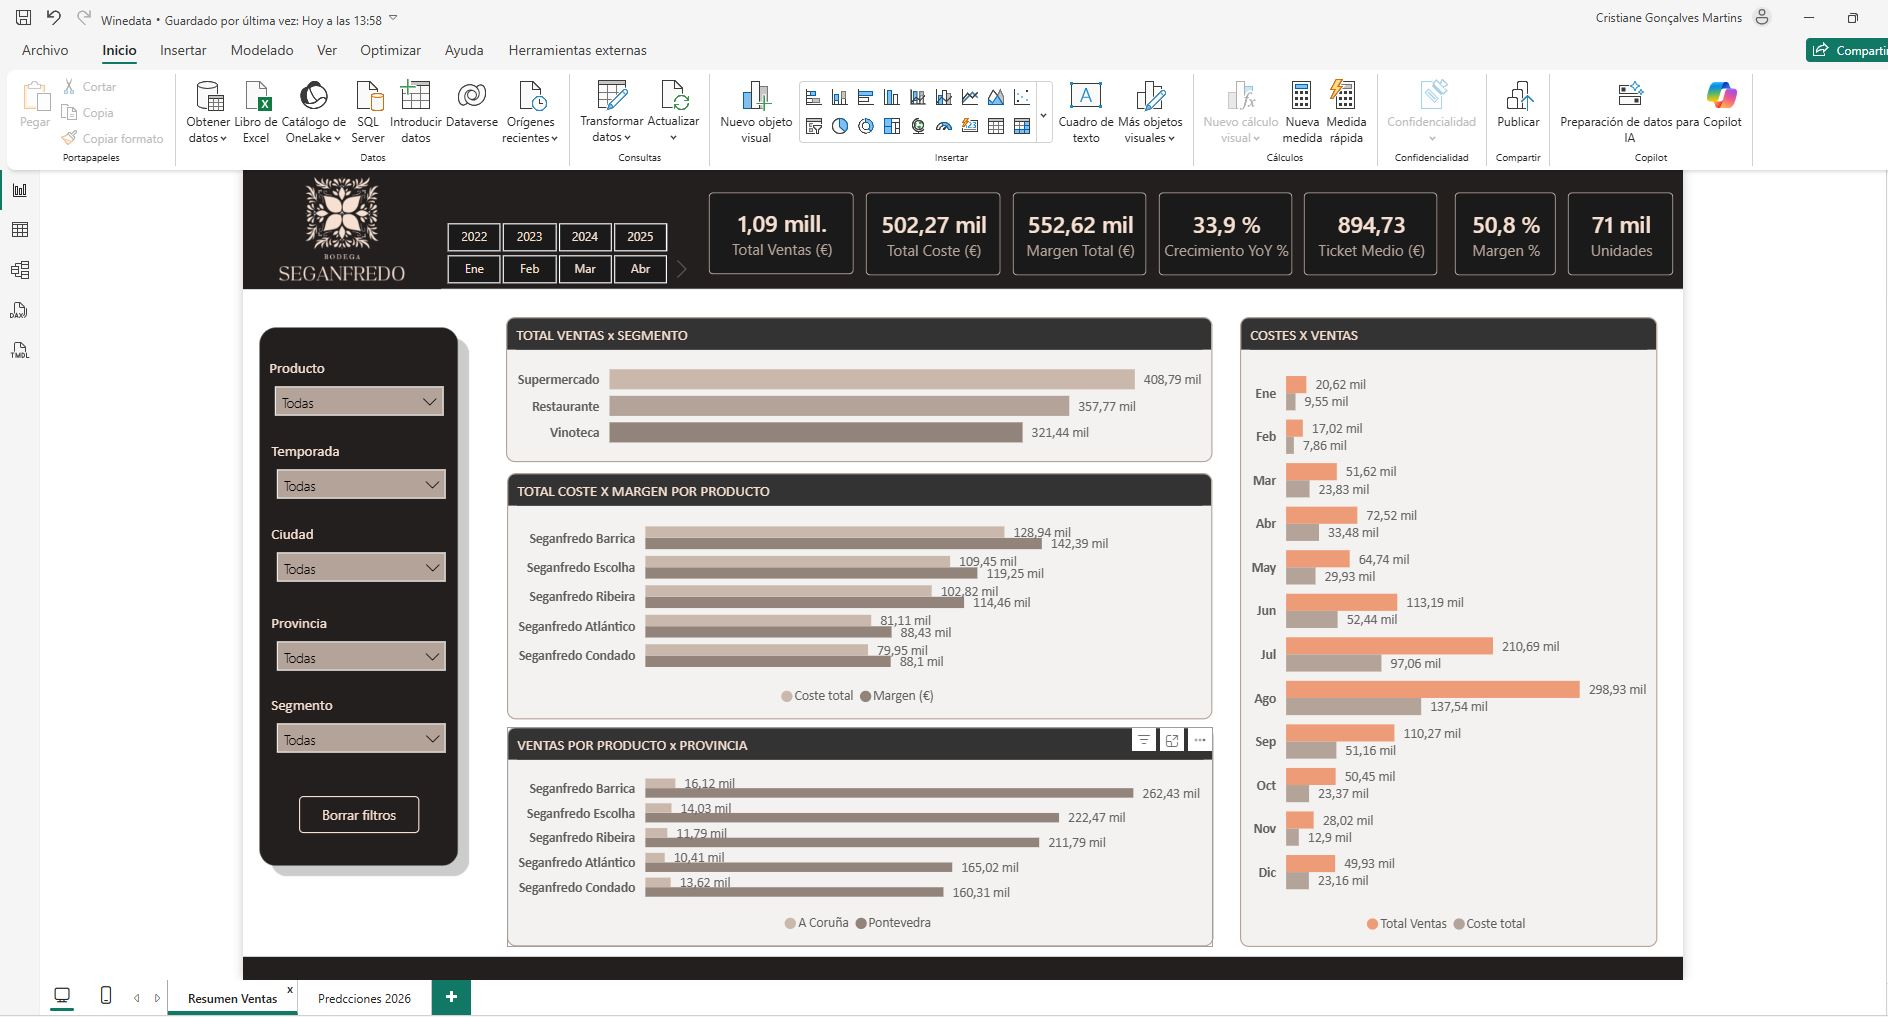

The dashboard page shown, as its layout file describes it:
{"tool":"powerbi","page":{"name":"Resumen Ventas","canvas":[1280,720],"ordinal":0},"visuals":[{"type":"barChart","title":"TOTAL VENTAS x SEGMENTO","fields":{"Category":["dim_cliente.segmento"],"Y":["Medidas.Total Ventas_bruto"]},"box":[233.6,130.8,627.9,128.9],"z":0},{"type":"slicer","title":"Año","fields":{"Values":["dim_calendario.año"]},"box":[161,45,235,28.5],"z":1000,"group":"g1"},{"type":"clusteredBarChart","title":"COSTES X VENTAS","fields":{"Category":["dim_calendario.mes_corto"],"Y":["Medidas.Total Ventas_bruto","Medidas.Coste total"]},"box":[886.7,130.8,370.9,559.6],"z":1000},{"type":"cardVisual","fields":{"Data":["Medidas.Margen %"]},"box":[1072,17.8,100.4,78.2],"z":2000},{"type":"cardVisual","fields":{"Data":["Medidas.Total Margen"]},"box":[678.8,17.7,129.7,78.6],"z":3000},{"type":"cardVisual","fields":{"Data":["Medidas.Unidades Vendidas"]},"box":[1172.4,17.8,104,78.2],"z":4000},{"type":"cardVisual","fields":{"Data":["Medidas.Ticket Medio (€)"]},"box":[938.1,17.7,129,78.6],"z":5000},{"type":"cardVisual","fields":{"Data":["Medidas.Crecimiento YoY %"]},"box":[808.5,17.7,129.7,78.6],"z":6000},{"type":"cardVisual","title":"Total Ventas (","fields":{"Data":["Medidas.Total Ventas"]},"box":[408.7,17.7,139.5,77.6],"z":7000},{"type":"slicer","title":"Producto","fields":{"Values":["dim_producto.nombre_producto"]},"box":[21.3,165.3,163.6,59.6],"z":8000},{"type":"slicer","title":"Temporada","fields":{"Values":["dim_calendario.temporada"]},"box":[23.1,239.1,164,60],"z":9000},{"type":"slicer","title":"Ciudad","fields":{"Values":["dim_cliente.ciudad"]},"box":[23.1,312.9,164.4,60.4],"z":10000},{"type":"slicer","title":"Provincia","fields":{"Values":["dim_cliente.provincia"]},"box":[23.1,392,164,60],"z":11000},{"type":"slicer","title":"Segmento","fields":{"Values":["dim_cliente.segmento"]},"box":[23.1,464.9,164.4,60.4],"z":12000},{"type":"clusteredBarChart","title":"TOTAL COSTE X MARGEN POR PRODUCTO","fields":{"Category":["dim_producto.nombre_producto"],"Y":["Medidas.Coste total","Medidas.Total Margen"]},"box":[234.5,269.1,627,218.6],"z":13000},{"type":"clusteredBarChart","title":"VENTAS POR PRODUCTO x PROVINCIA","fields":{"Category":["dim_producto.nombre_producto"],"Series":["dim_cliente.provincia"],"Y":["Medidas.Total Ventas_bruto"]},"box":[234.5,495.2,627.9,195.3],"z":14000},{"type":"cardVisual","title":"Total Ventas (","fields":{"Data":["Medidas.Coste total"]},"box":[548.2,17.7,130.7,78.6],"z":15000},{"type":"group","id":"g1","title":"Grupo 1","box":[161,45,235,57],"z":16000},{"type":"slicer","title":"Año","fields":{"Values":["dim_calendario.mes_corto"]},"box":[161,73.5,235,28.5],"z":17000,"group":"g1"},{"type":"actionButton","title":"Borrar filtros","box":[49.8,556.4,106.7,32.9],"z":17000}]}

Visuals, with their boxes on the page's 1280x720 design canvas (x1, y1, x2, y2). These are canvas units, not pixel positions in the 1888x1017 screenshot, which may show the page scaled, cropped or inside an application window:
"TOTAL VENTAS x SEGMENTO" barChart: <bbox>234, 131, 862, 260</bbox>
"Año" slicer: <bbox>161, 45, 396, 74</bbox>
"COSTES X VENTAS" clusteredBarChart: <bbox>887, 131, 1258, 690</bbox>
cardVisual - Medidas.Margen %: <bbox>1072, 18, 1172, 96</bbox>
cardVisual - Medidas.Total Margen: <bbox>679, 18, 808, 96</bbox>
cardVisual - Medidas.Unidades Vendidas: <bbox>1172, 18, 1276, 96</bbox>
cardVisual - Medidas.Ticket Medio (€): <bbox>938, 18, 1067, 96</bbox>
cardVisual - Medidas.Crecimiento YoY %: <bbox>808, 18, 938, 96</bbox>
"Total Ventas (" cardVisual: <bbox>409, 18, 548, 95</bbox>
"Producto" slicer: <bbox>21, 165, 185, 225</bbox>
"Temporada" slicer: <bbox>23, 239, 187, 299</bbox>
"Ciudad" slicer: <bbox>23, 313, 188, 373</bbox>
"Provincia" slicer: <bbox>23, 392, 187, 452</bbox>
"Segmento" slicer: <bbox>23, 465, 188, 525</bbox>
"TOTAL COSTE X MARGEN POR PRODUCTO" clusteredBarChart: <bbox>234, 269, 862, 488</bbox>
"VENTAS POR PRODUCTO x PROVINCIA" clusteredBarChart: <bbox>234, 495, 862, 690</bbox>
"Total Ventas (" cardVisual: <bbox>548, 18, 679, 96</bbox>
"Grupo 1" group: <bbox>161, 45, 396, 102</bbox>
"Año" slicer: <bbox>161, 74, 396, 102</bbox>
"Borrar filtros" actionButton: <bbox>50, 556, 156, 589</bbox>
